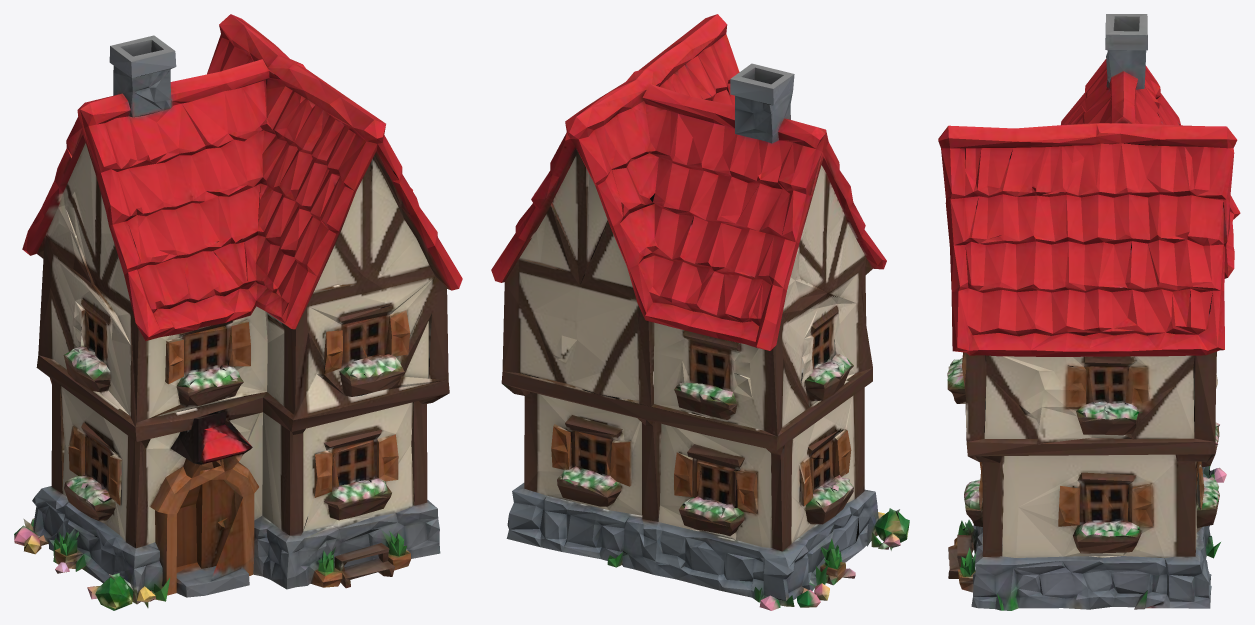
The model's file is house_terra_6_opt6000.glb.
The picture shows the model from 3 angles, left to right: view 1: azimuth 30°, elevation 25°; view 2: azimuth 150°, elevation 25°; view 3: azimuth 270°, elevation 25°; orthographic projection. The views are drawn at different scales.
Parts seen in each view (by area): view 1: opt6000; view 2: opt6000; view 3: opt6000.
Boxes of the visible parts, left/top/right/bottom form: opt6000: left=14, top=14, right=462, bottom=610; opt6000: left=491, top=14, right=909, bottom=610; opt6000: left=938, top=14, right=1240, bottom=610.
Size of the model in its own units: 1.33 by 1.9 by 1.08.
1 material, 1 textured.
